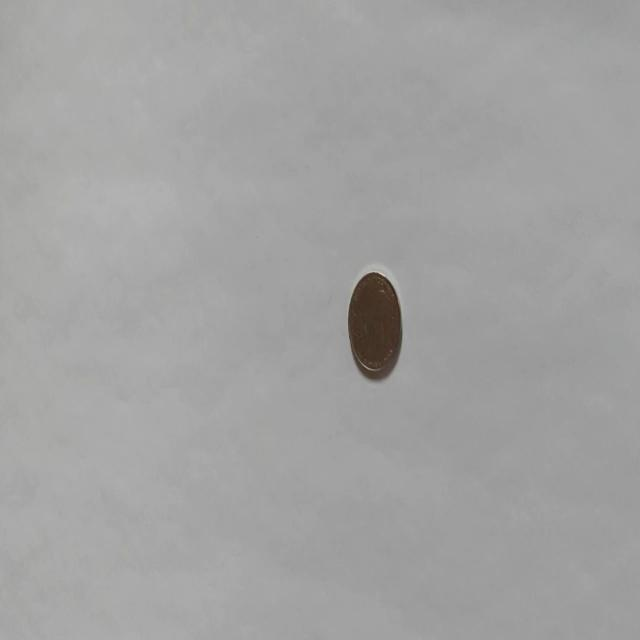seribu rupiah koin: (347, 267, 402, 378)
